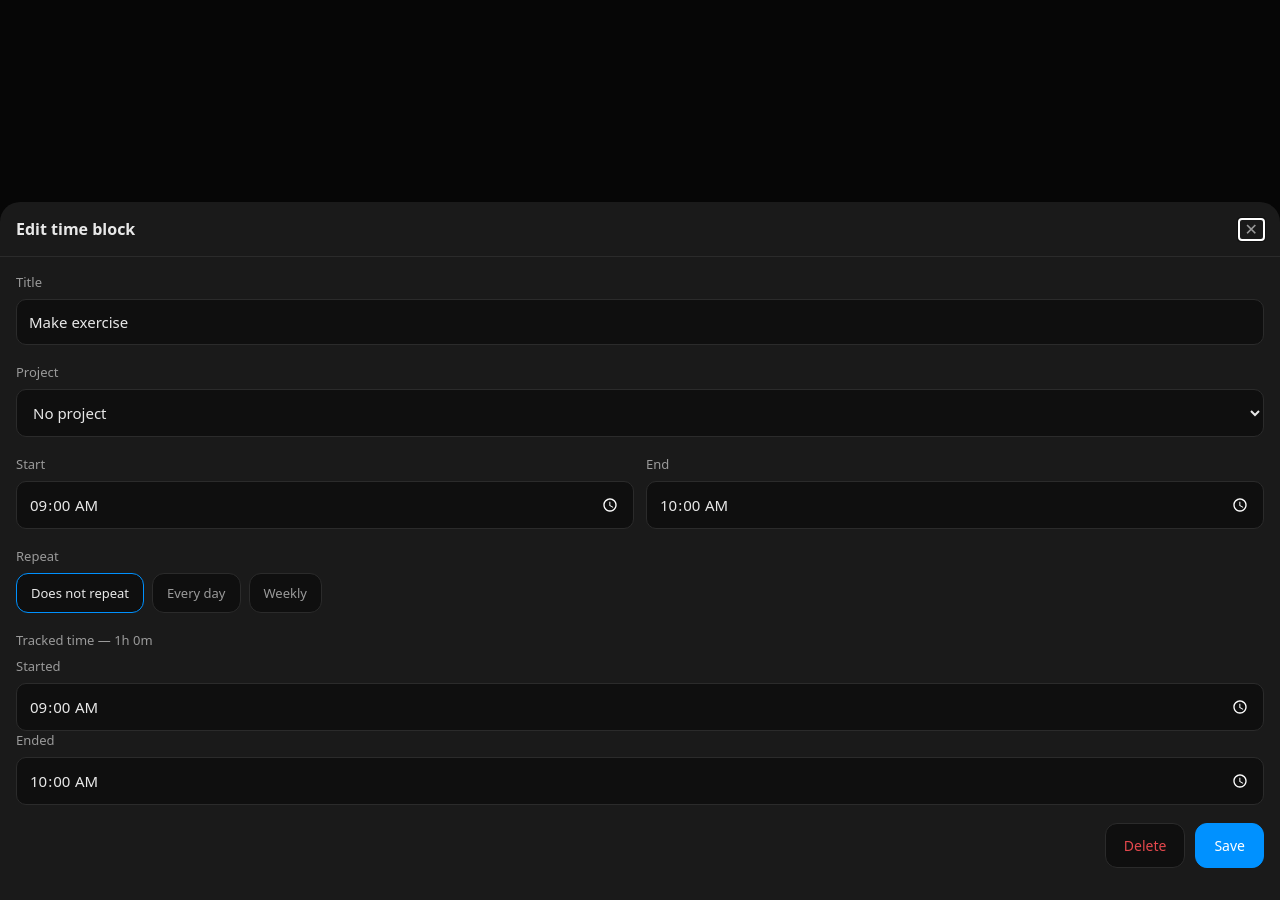
it: BlockEditorSheet › keeps the precise message when a tracked correction is invalid, without reporting it
The width and height of the screenshot is (1280, 900).
Replace the text in the time field labelled "Started" with "23:00" at (640,707), box [16,683,1264,731]
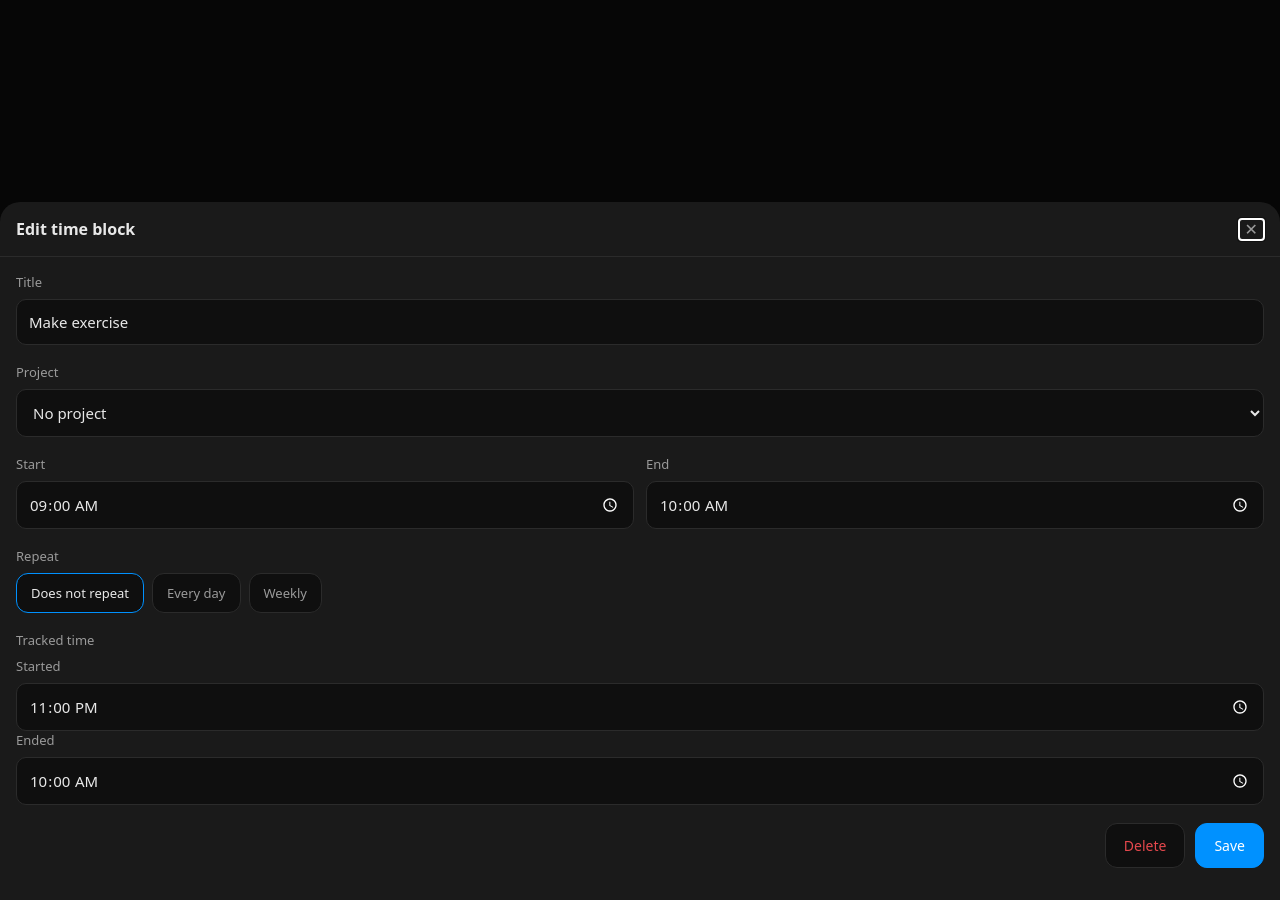
Click the button "Save" at (1230,846), box [1195,823,1264,868]
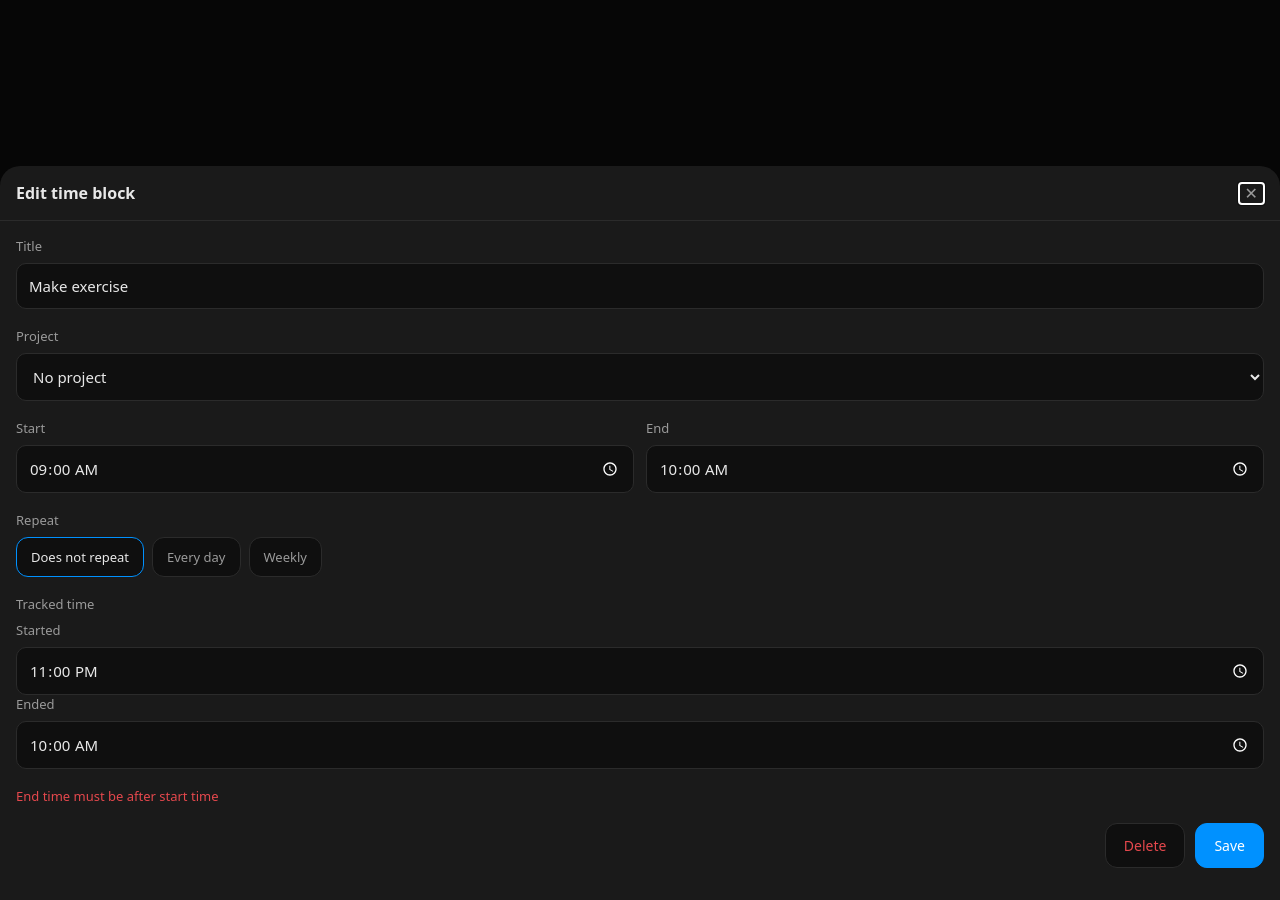
Result: the text "End time must be after start time" is shown at [16,787,218,805]
